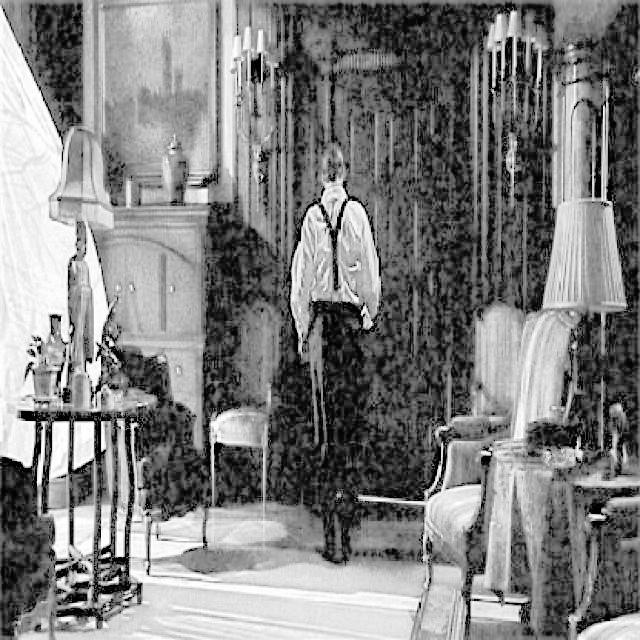Person: (291, 137, 382, 566)
